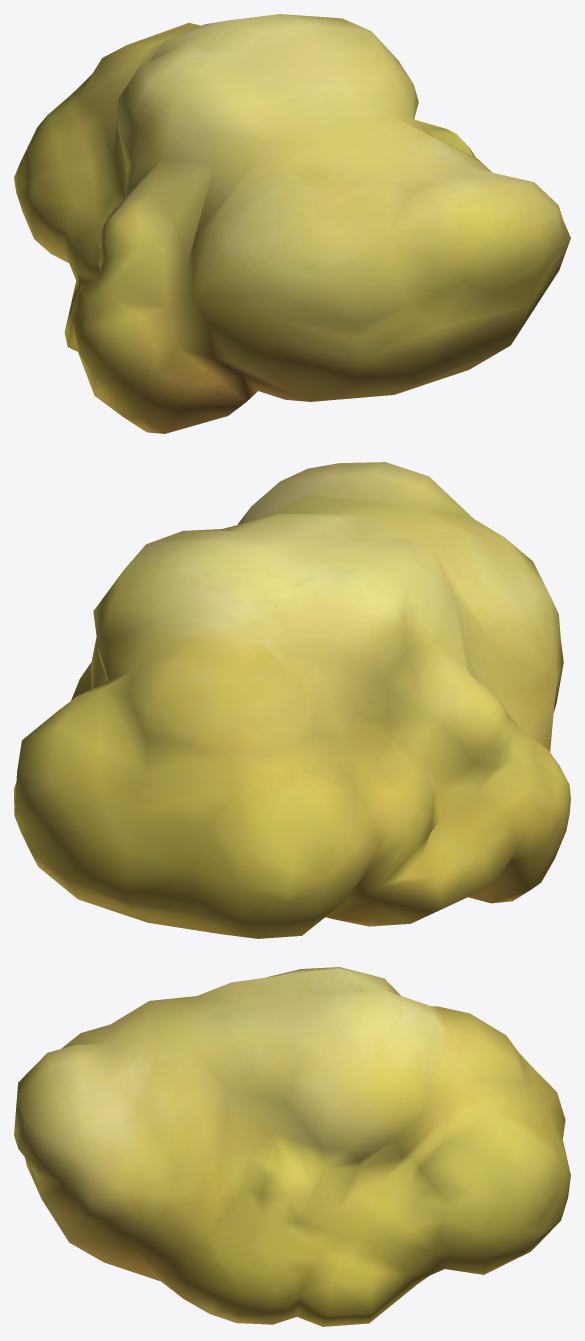
File: cloud.obj
The picture shows the model from 3 angles, top to bottom: view 1: azimuth 30°, elevation 25°; view 2: azimuth 150°, elevation 25°; view 3: azimuth 270°, elevation 25°; orthographic projection. The views are drawn at different scales.
Visible parts, largest first — view 1: Vehicle_Cluld; view 2: Vehicle_Cluld; view 3: Vehicle_Cluld.
Part boxes in pixels (x1=…): Vehicle_Cluld: x1=14, y1=14, x2=570, y2=433; Vehicle_Cluld: x1=14, y1=462, x2=570, y2=938; Vehicle_Cluld: x1=14, y1=967, x2=570, y2=1326.
Size of the model in its own units: 63.83 by 45.89 by 79.54.
